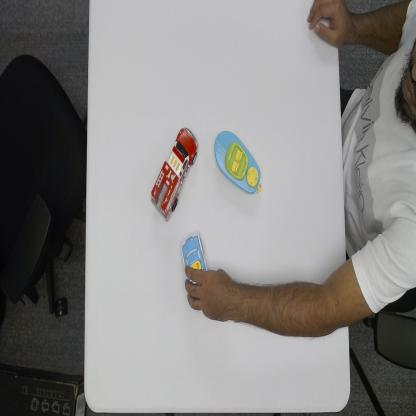Arm: (236, 270, 350, 340)
Boat: (212, 129, 264, 198)
Car: (180, 232, 209, 286)
Firetruck: (149, 125, 199, 223)
Hand: (183, 261, 231, 324), (306, 0, 338, 48)
